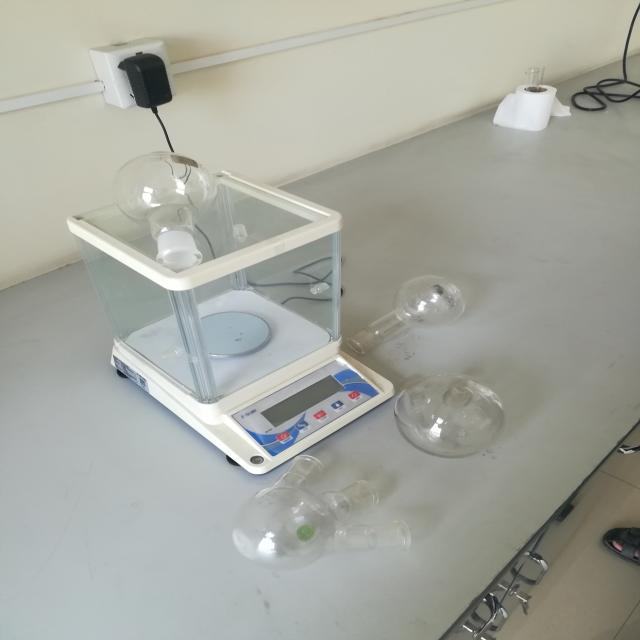Round_Bottom_Flask_Borosilicate_Glass_1_Neck: (101, 134, 246, 290), (340, 258, 490, 364)
Round_Bottom_Flask_Borosilicate_Glass_2_Neck: (357, 325, 552, 475)
Round_Bottom_Flask_Borosilicate_Glass_3_Neck: (214, 438, 434, 588)
